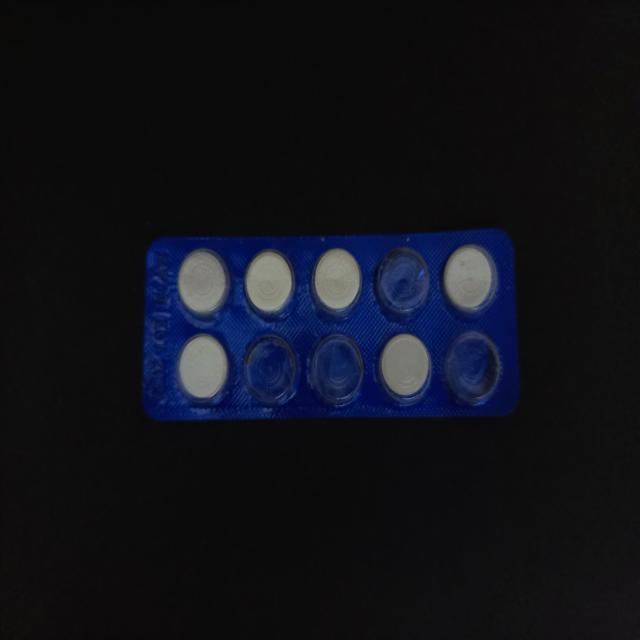defect: (443, 325, 504, 412), (304, 331, 368, 412), (241, 330, 300, 412), (371, 245, 432, 324)
